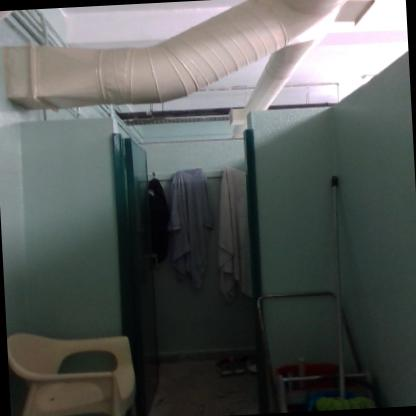open: (103, 97, 280, 391)
